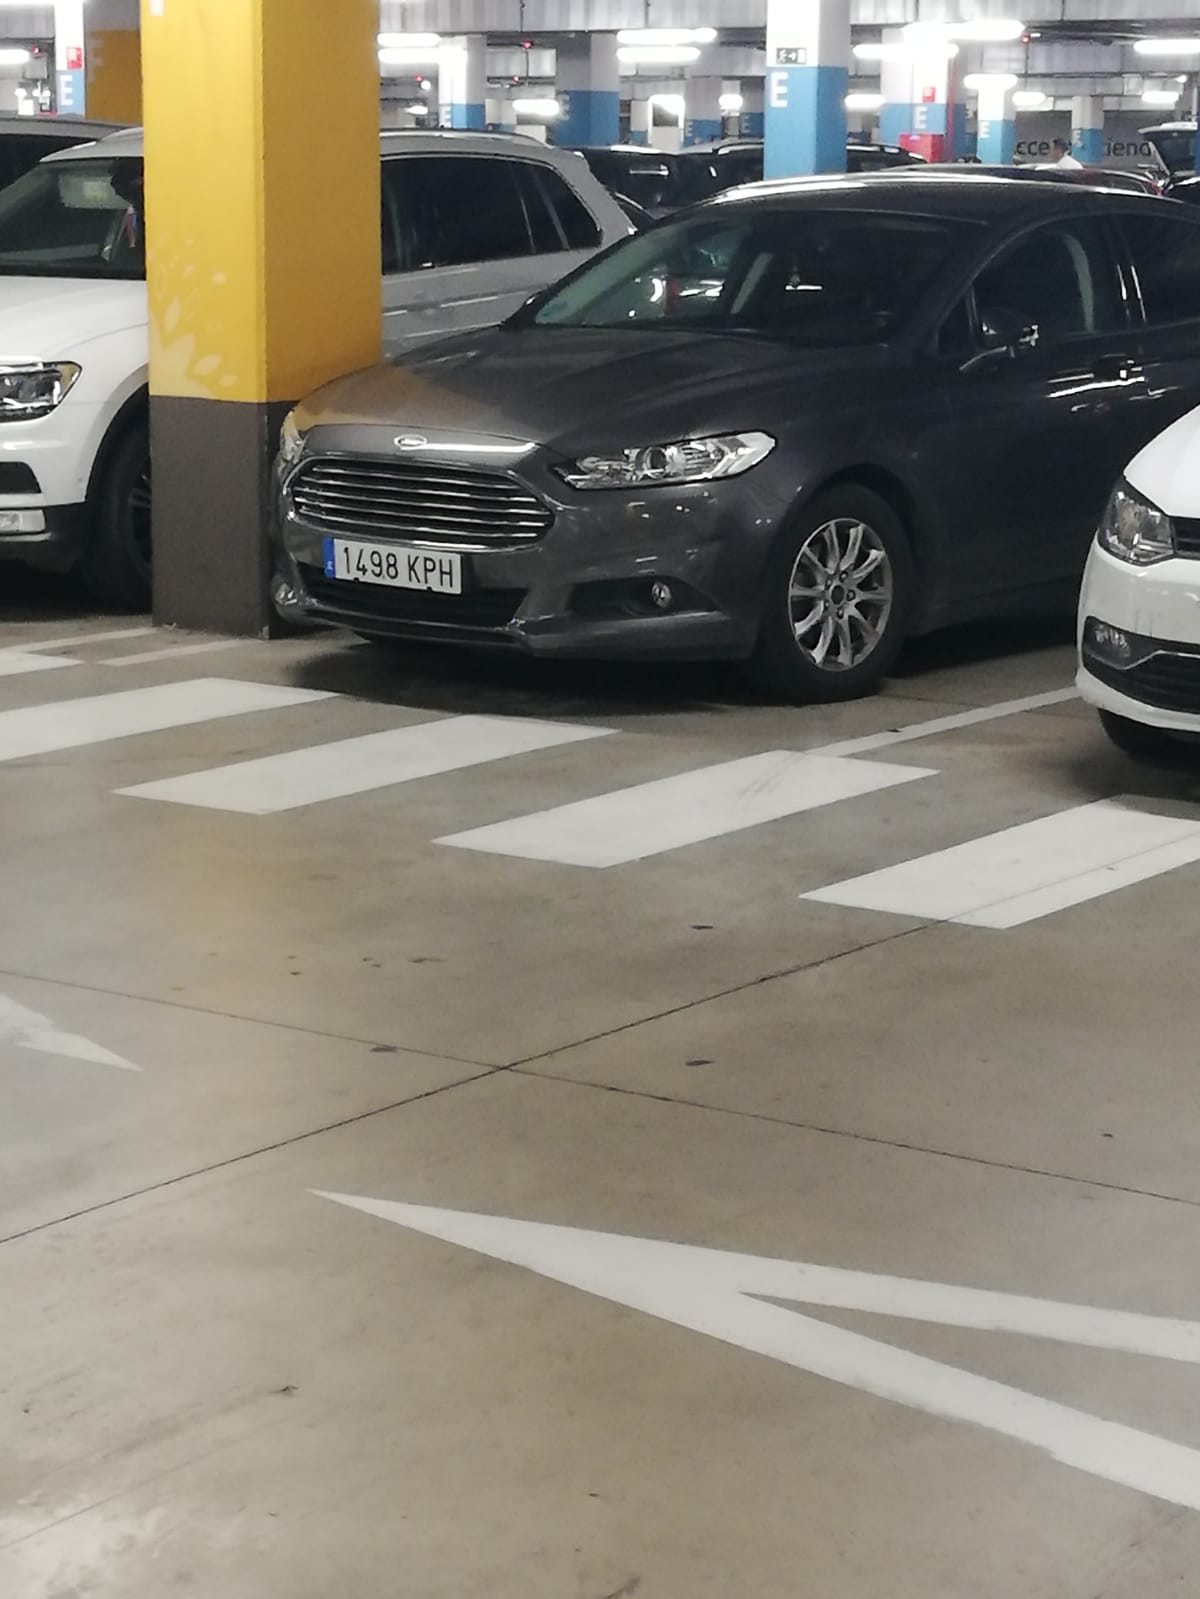Car: (277, 163, 1062, 707)
Plate: (325, 531, 472, 576)
